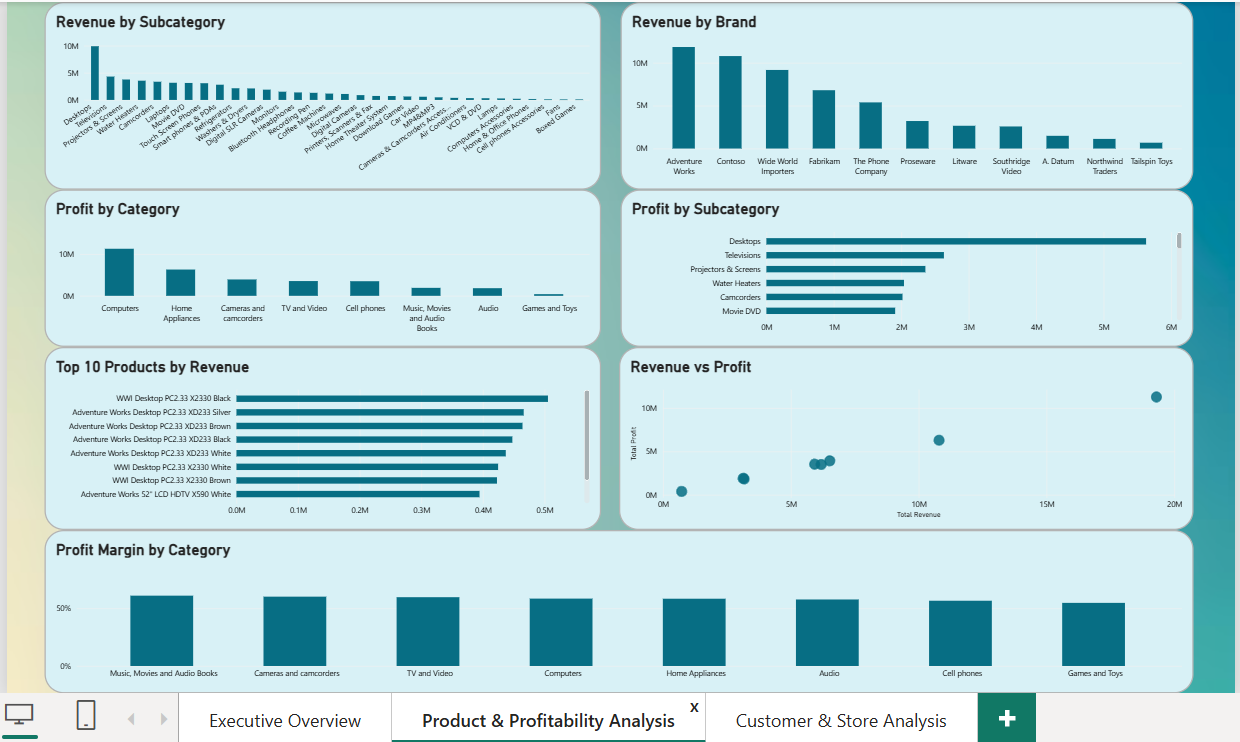

The dashboard page shown, as its layout file describes it:
{"tool":"powerbi","page":{"name":"Product & Profitability Analysis","canvas":[1920,1080],"ordinal":1},"visuals":[{"type":"clusteredColumnChart","title":"Revenue by Subcategory","fields":{"Category":["Products_cleaned.Subcategory"],"Y":["Sales_cleaned.Total Revenue"]},"box":[58.6,0,869.8,293.1],"z":0},{"type":"clusteredColumnChart","title":"Revenue by Brand","fields":{"Category":["Products_cleaned.Brand"],"Y":["Sales_cleaned.Total Revenue"]},"box":[958.9,0,895.6,293.1],"z":1000},{"type":"clusteredColumnChart","title":"Profit by Category","fields":{"Category":["Products_cleaned.Category"],"Y":["Customer_cleaned.Total Profit"]},"box":[58.6,293.1,869.8,246.2],"z":2000},{"type":"clusteredBarChart","title":"Profit by Subcategory","fields":{"Category":["Products_cleaned.Subcategory"],"Y":["Customer_cleaned.Total Profit"]},"box":[958.9,293.1,895.6,246.2],"z":3000},{"type":"clusteredBarChart","title":"Top 10 Products by Revenue","fields":{"Category":["Products_cleaned.Product Name"],"Y":["Sales_cleaned.Total Revenue"]},"box":[58.6,539.2,869.8,286],"z":4000},{"type":"scatterChart","title":"Revenue vs Profit","fields":{"Category":["Products_cleaned.Category"],"X":["Sales_cleaned.Total Revenue"],"Y":["Customer_cleaned.Total Profit"]},"box":[956.5,539.2,897.9,286],"z":5000},{"type":"clusteredColumnChart","title":"Profit Margin by Category","fields":{"Category":["Products_cleaned.Category"],"Y":["Customer_cleaned.Profit Margin %"]},"box":[58.6,825.3,1795.9,255.5],"z":6000}]}

Visuals, with their boxes on the page's 1920x1080 design canvas (x1, y1, x2, y2). These are canvas units, not pixel positions in the 1240x742 screenshot, which may show the page scaled, cropped or inside an application window:
"Revenue by Subcategory" clusteredColumnChart: left=59, top=0, right=928, bottom=293
"Revenue by Brand" clusteredColumnChart: left=959, top=0, right=1854, bottom=293
"Profit by Category" clusteredColumnChart: left=59, top=293, right=928, bottom=539
"Profit by Subcategory" clusteredBarChart: left=959, top=293, right=1854, bottom=539
"Top 10 Products by Revenue" clusteredBarChart: left=59, top=539, right=928, bottom=825
"Revenue vs Profit" scatterChart: left=956, top=539, right=1854, bottom=825
"Profit Margin by Category" clusteredColumnChart: left=59, top=825, right=1854, bottom=1081
